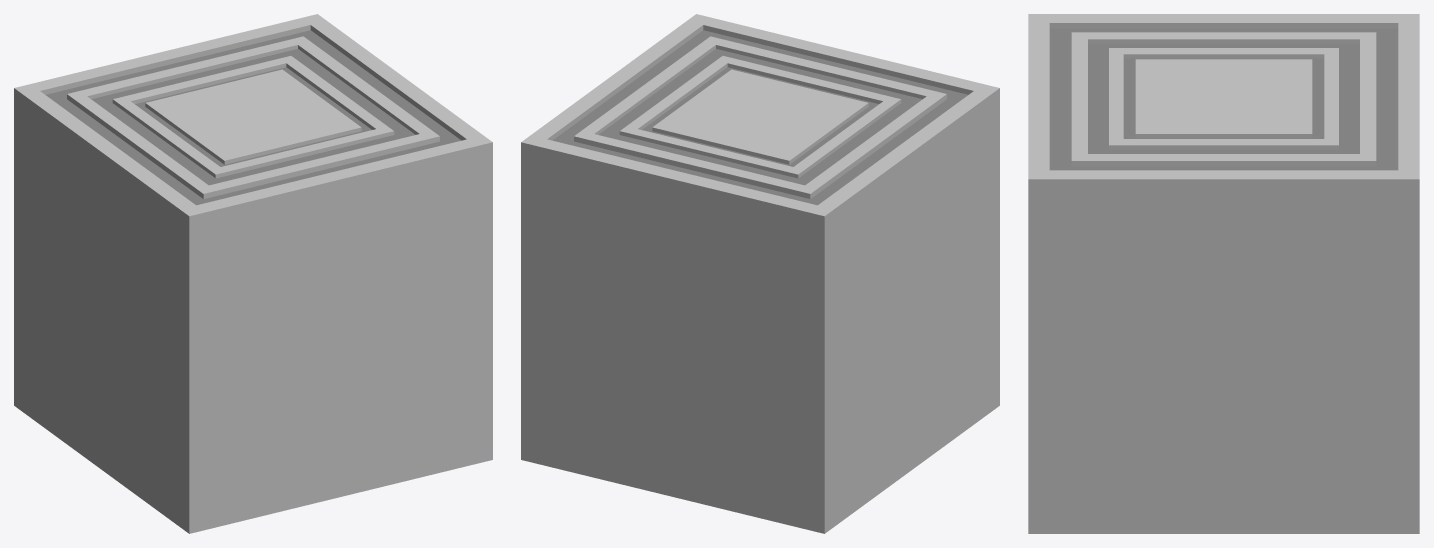
The model's file is whiteFloorTile.glb.
3 views of the same model, side by side, from view 1: azimuth 30°, elevation 25°; view 2: azimuth 150°, elevation 25°; view 3: azimuth 270°, elevation 25° (orthographic). The views are drawn at different scales.
Visible parts, largest first — view 1: FloorTileWhite; view 2: FloorTileWhite; view 3: FloorTileWhite.
Part boxes in pixels (x1,y1,x2,y2): FloorTileWhite: (14,14,492,533); FloorTileWhite: (521,14,999,533); FloorTileWhite: (1028,14,1419,533).
Bounding box in the file's own units: 1 × 1 × 1.
Materials: 1 (1 with a texture image).
